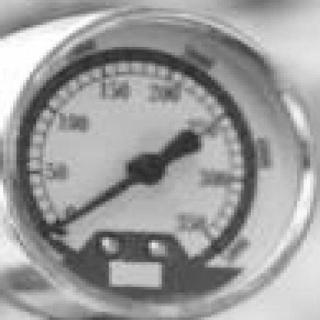gauge: (0, 0, 320, 320), (191, 216, 235, 262), (42, 211, 80, 254), (127, 152, 164, 185), (40, 224, 54, 242)
